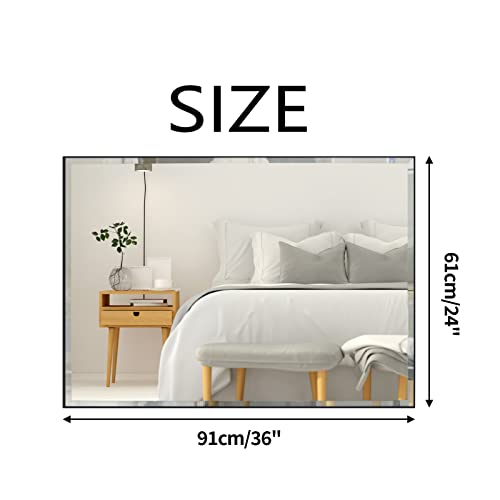91cm/36: (197, 430, 280, 449)
